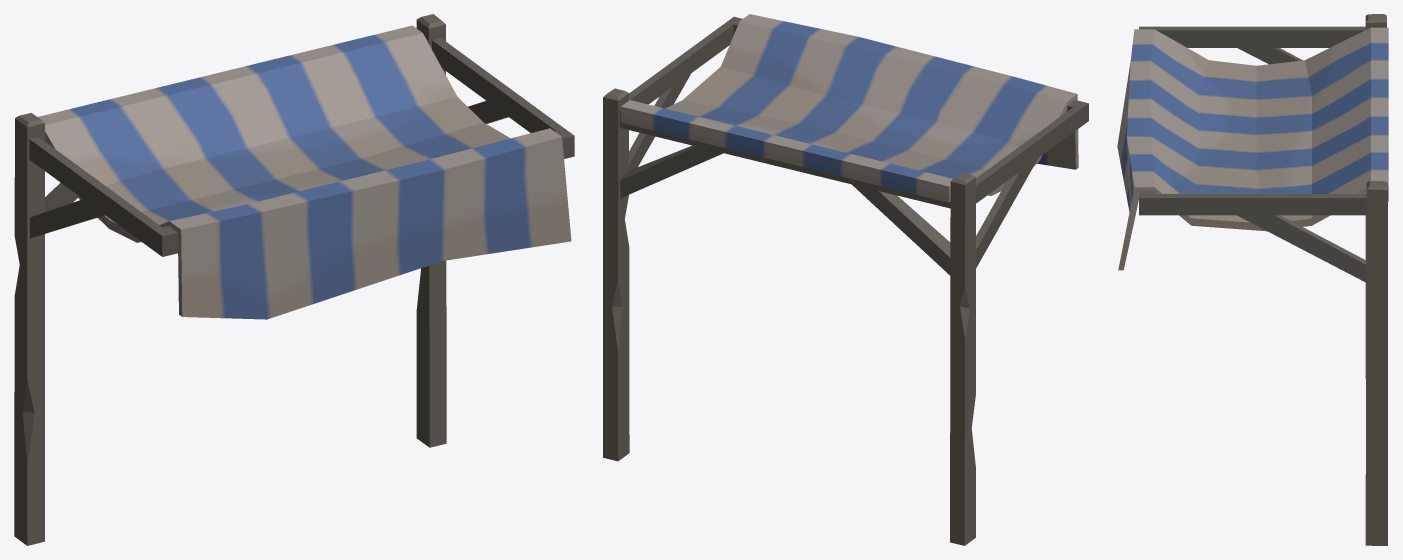
The model's file is SM_Bld_Village_ClothCover_01.glb.
The picture shows the model from 3 angles, left to right: view 1: azimuth 30°, elevation 25°; view 2: azimuth 150°, elevation 25°; view 3: azimuth 270°, elevation 25°; orthographic projection. The views are drawn at different scales.
Visible parts, largest first — view 1: SM_Bld_Village_ClothCover_01; view 2: SM_Bld_Village_ClothCover_01; view 3: SM_Bld_Village_ClothCover_01.
Boxes of the visible parts, x1,y1,x2,y2 form: SM_Bld_Village_ClothCover_01: [14, 14, 574, 545]; SM_Bld_Village_ClothCover_01: [603, 14, 1088, 545]; SM_Bld_Village_ClothCover_01: [1117, 14, 1388, 545].
Size of the model in its own units: 3.63 by 3.49 by 2.39.
1 material, 1 textured.
